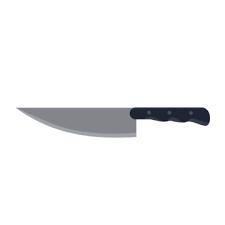Knife: (15, 106, 210, 137)
